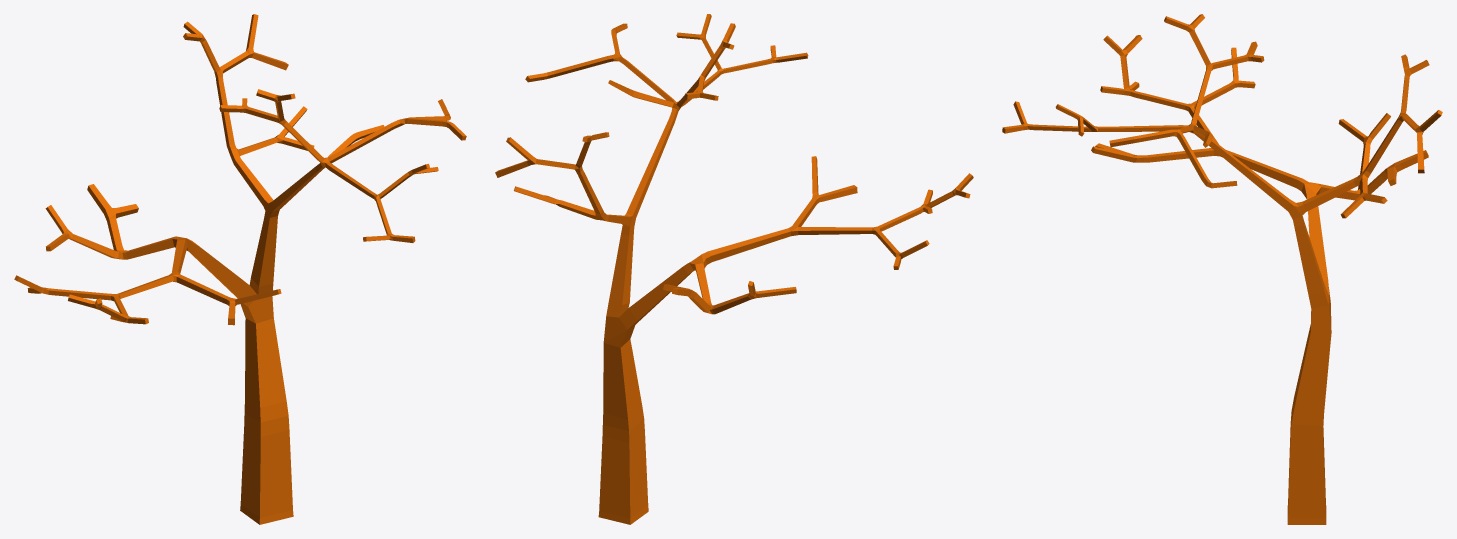
Rendered from TreeNoLeaves.fbx.
3 renders of one model, left to right at view 1: azimuth 30°, elevation 25°; view 2: azimuth 150°, elevation 25°; view 3: azimuth 270°, elevation 25°, orthographic. The views are drawn at different scales.
Visible parts, largest first — view 1: Tree; view 2: Tree; view 3: Tree.
Boxes of the visible parts, left/top/right/bottom form: Tree: left=14, top=14, right=466, bottom=524; Tree: left=495, top=14, right=973, bottom=524; Tree: left=1002, top=14, right=1442, bottom=524.
Bounding box in the file's own units: 425 × 456 × 381.
